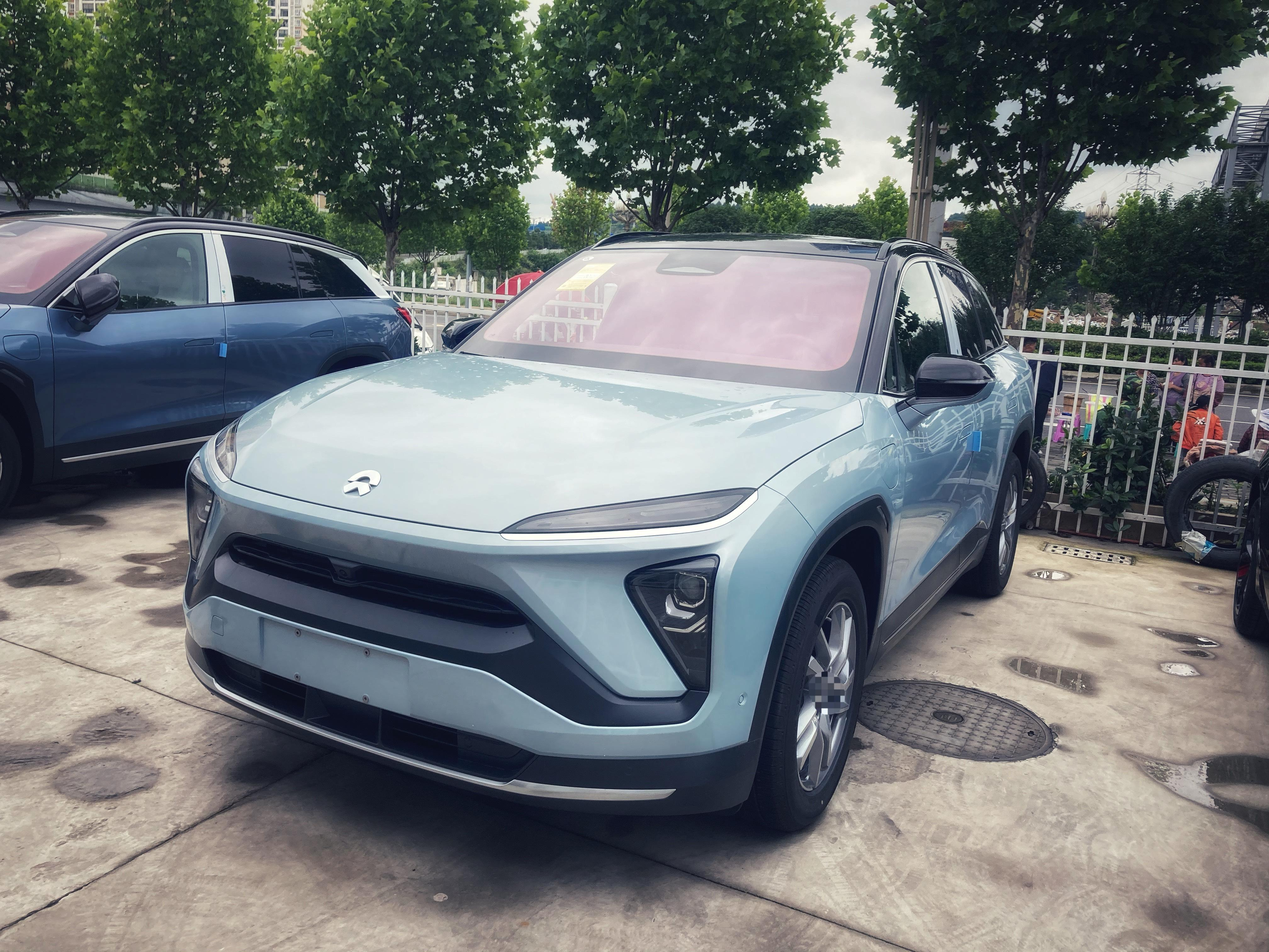NIO: (343, 470, 381, 496)
